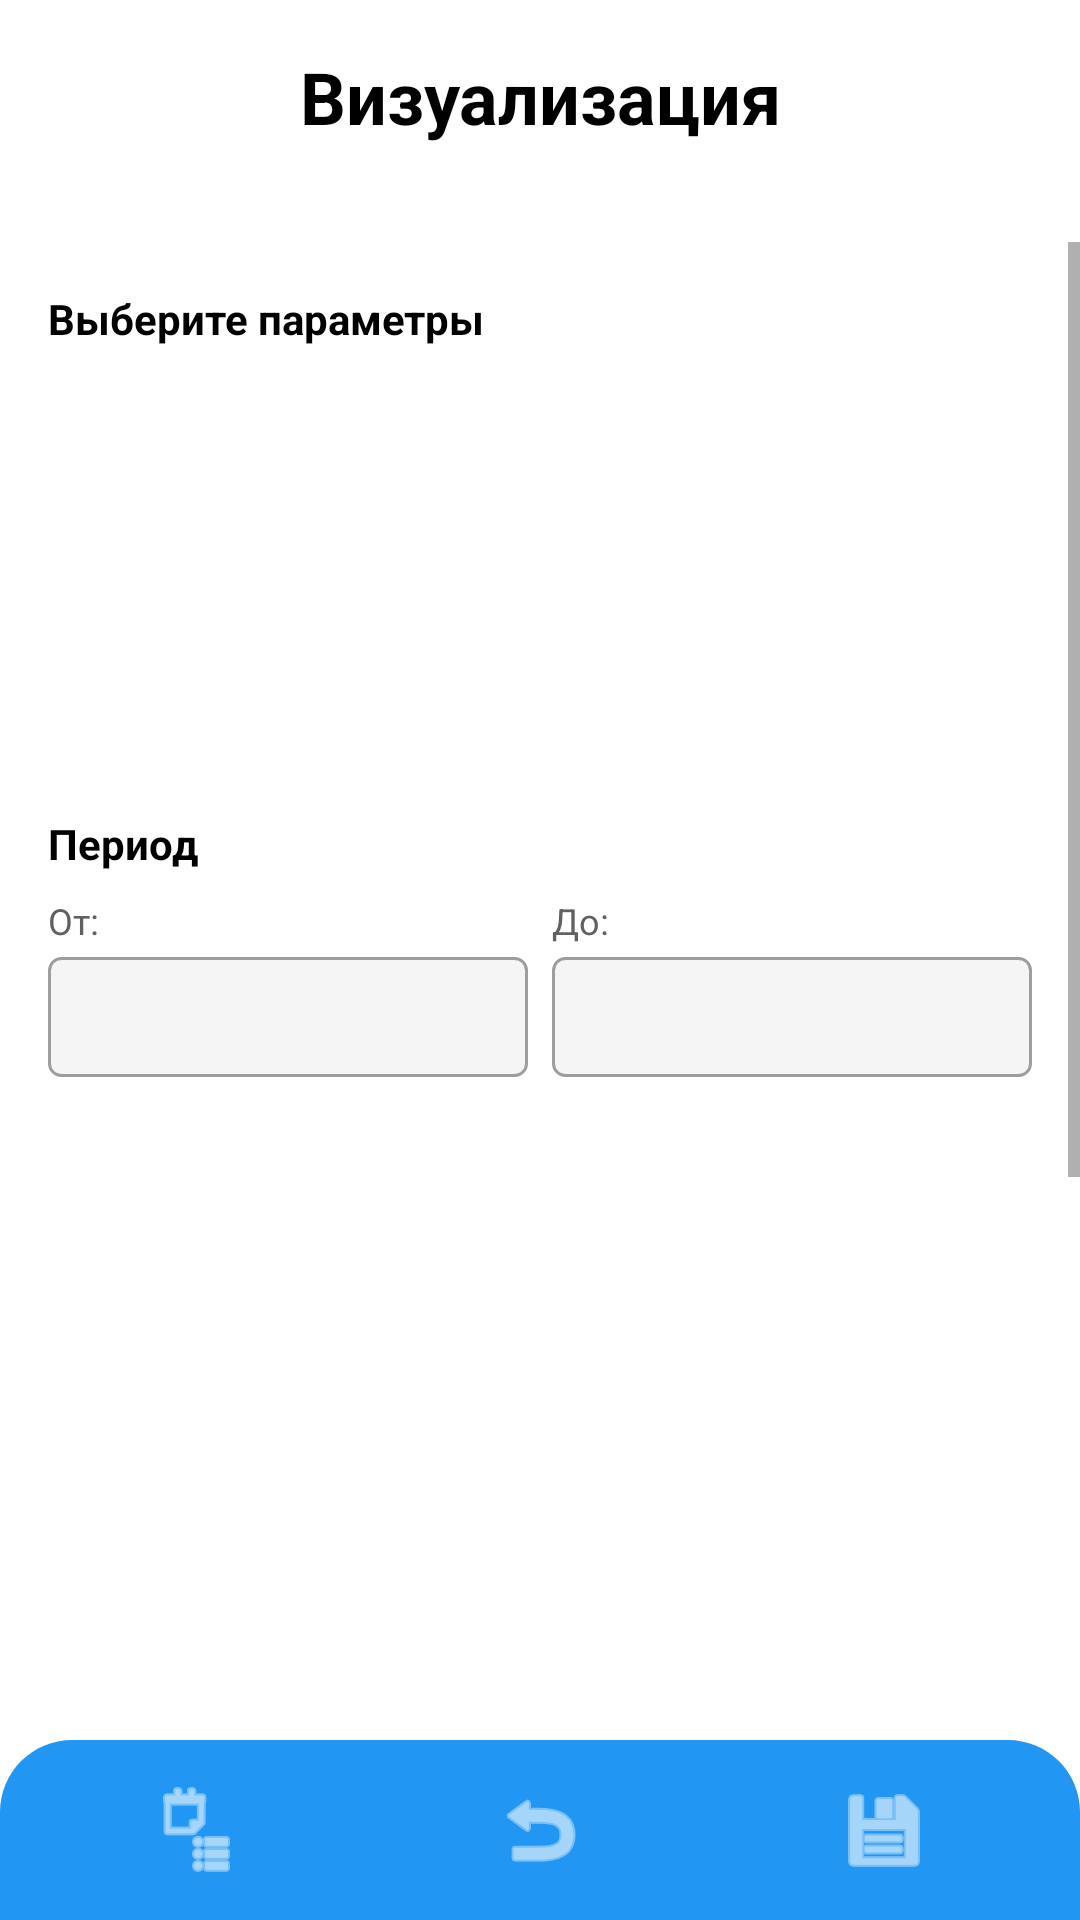

Named icons in this screenshot (1080*1920) and their centers, point (x, y):
Хранилище: point (884, 1830)
